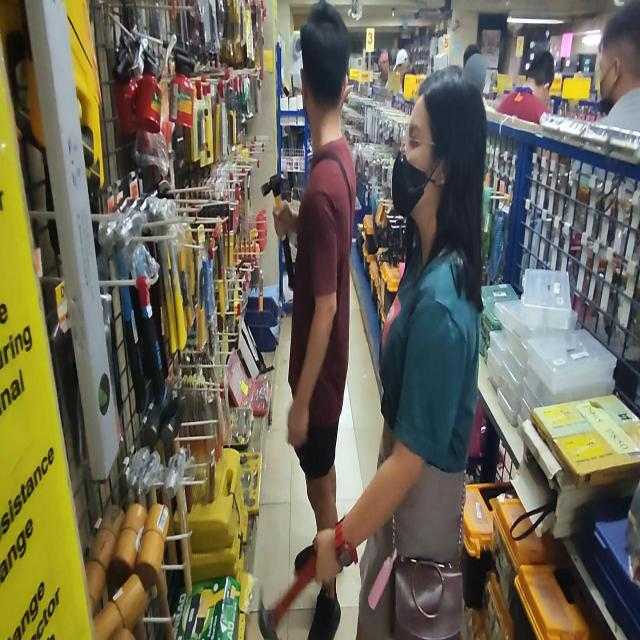hammer: (259, 514, 346, 640), (262, 173, 294, 291)
